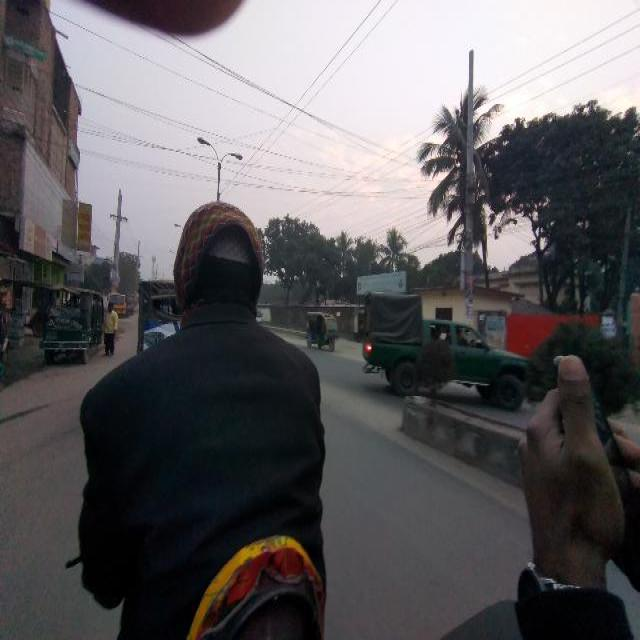18: (108, 292, 126, 316)
Bus: (359, 286, 535, 414)
Car: (43, 284, 101, 361), (132, 276, 180, 352), (304, 308, 340, 352)
